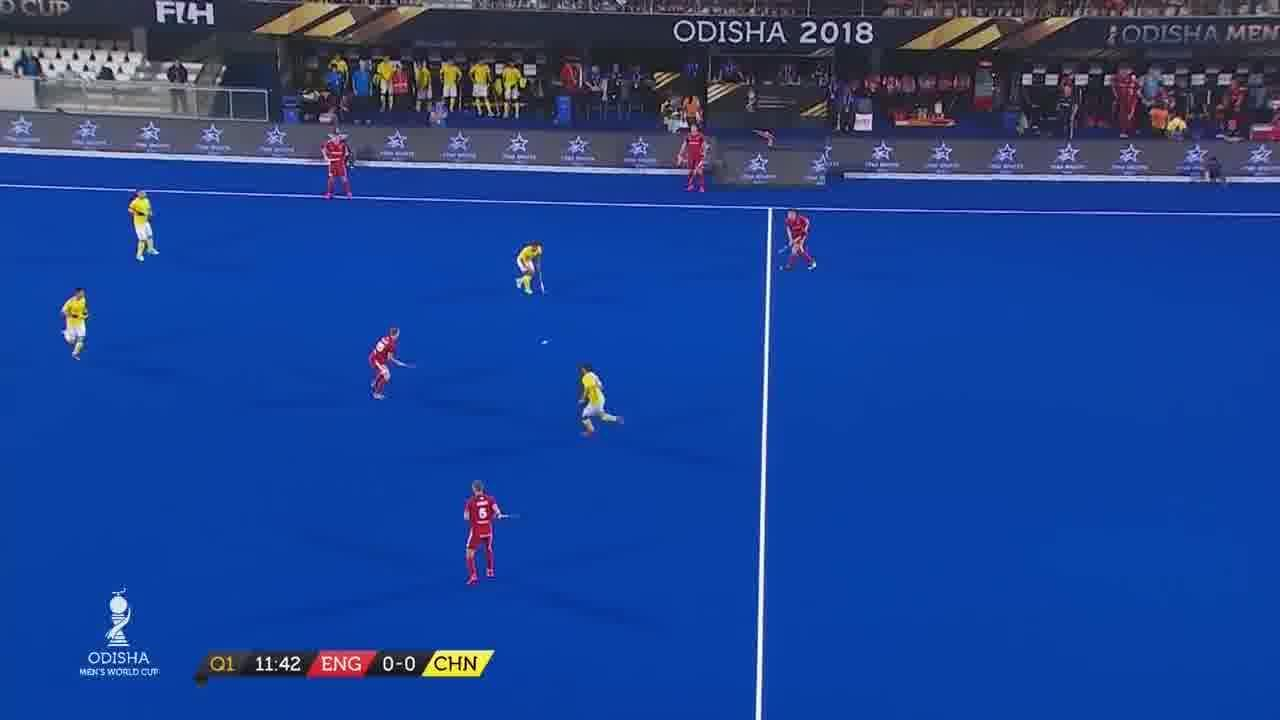ball: (541, 338, 549, 346)
